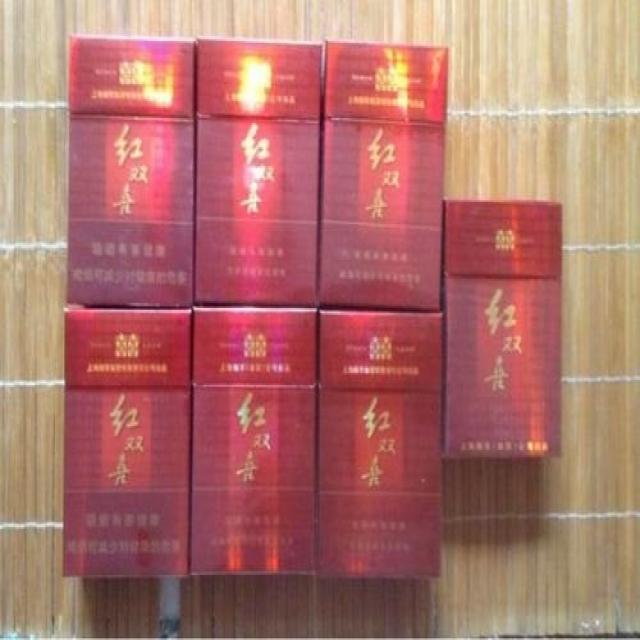box: (67, 33, 195, 308), (63, 308, 191, 580), (195, 38, 323, 308), (319, 41, 445, 315), (191, 305, 317, 578), (317, 308, 443, 577), (443, 199, 561, 460)
